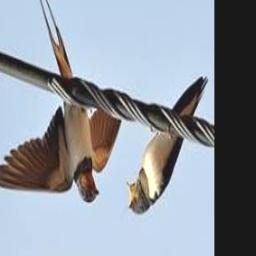Swallow: (0, 0, 123, 203), (127, 77, 210, 213)
